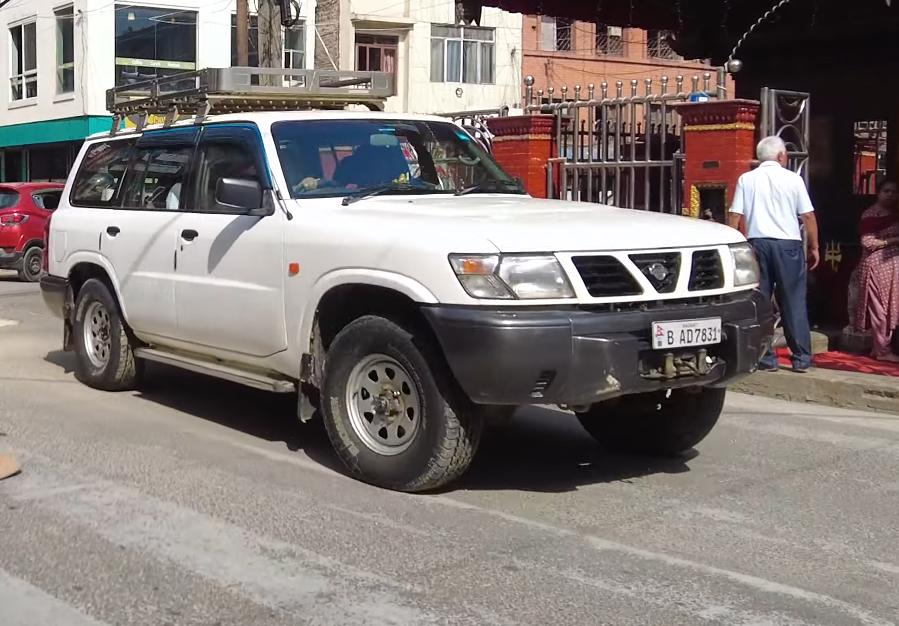SUV: (44, 69, 775, 495)
car: (0, 176, 63, 282)
